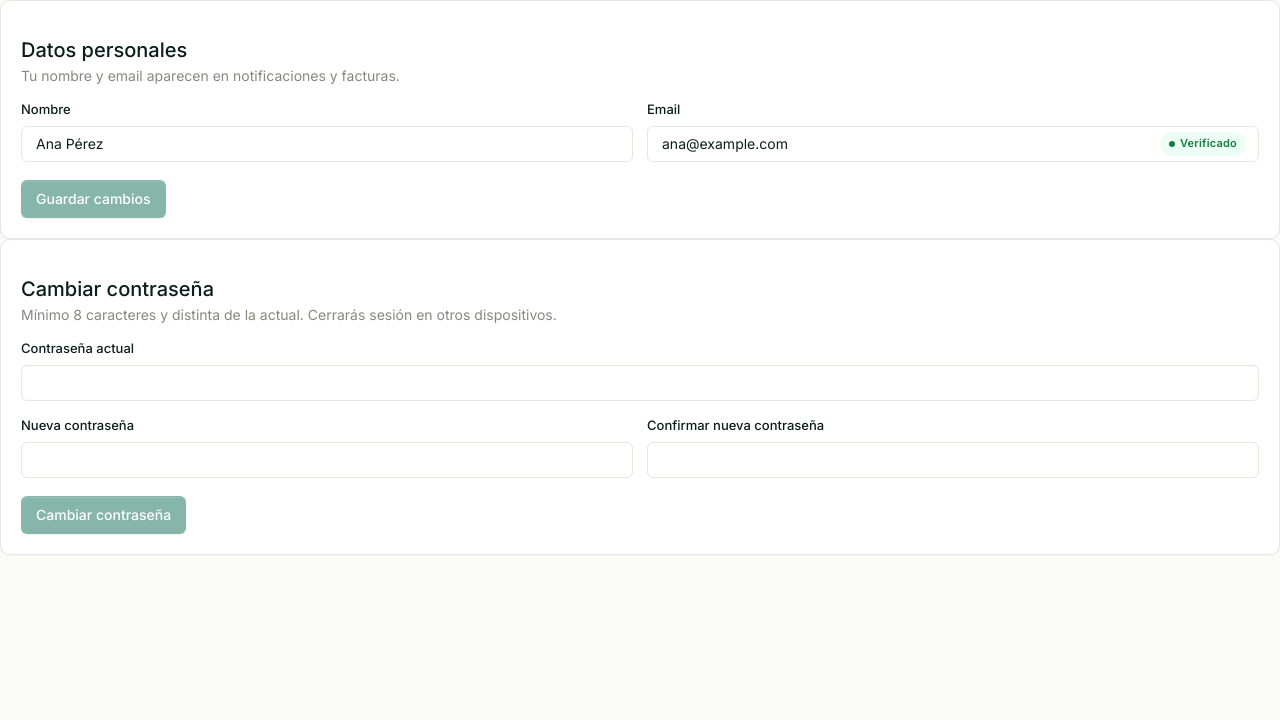
AccountTabPerfil › muestra error de validación 422 en el campo email
Replace the text in the field showing "ana@example.com" next to "Verificado" with "tomado@example.com" at [904, 144], box [660,134,1148,154]
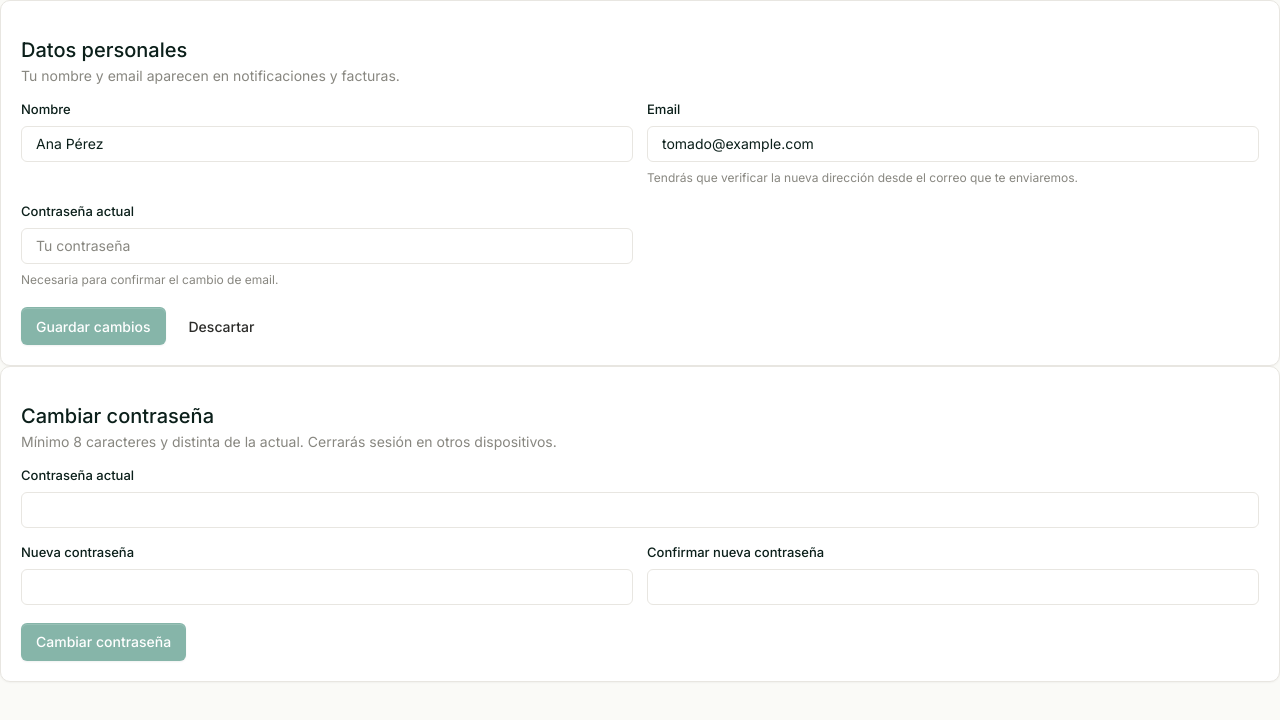
Type "miPassword1" into the password field with placeholder "Tu contraseña" at [327, 246], box [34,236,620,256]
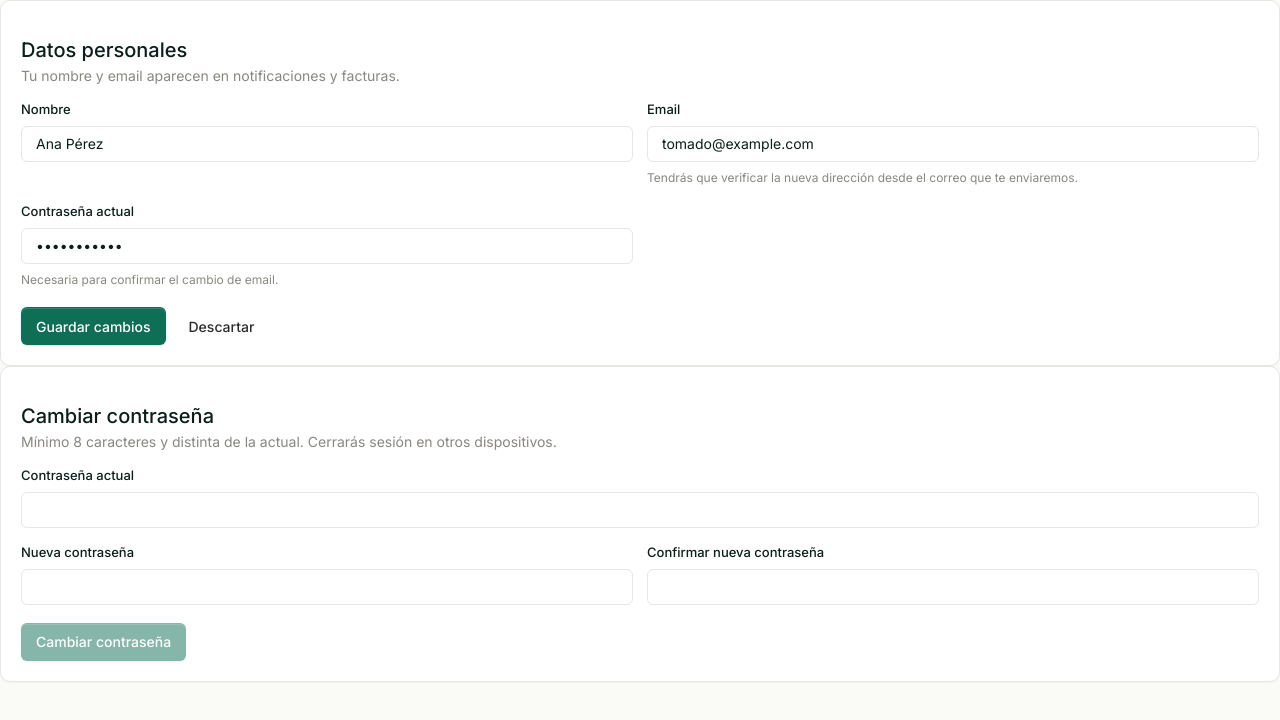
Click the button "Guardar cambios" at [93, 326], box [21,307,166,345]
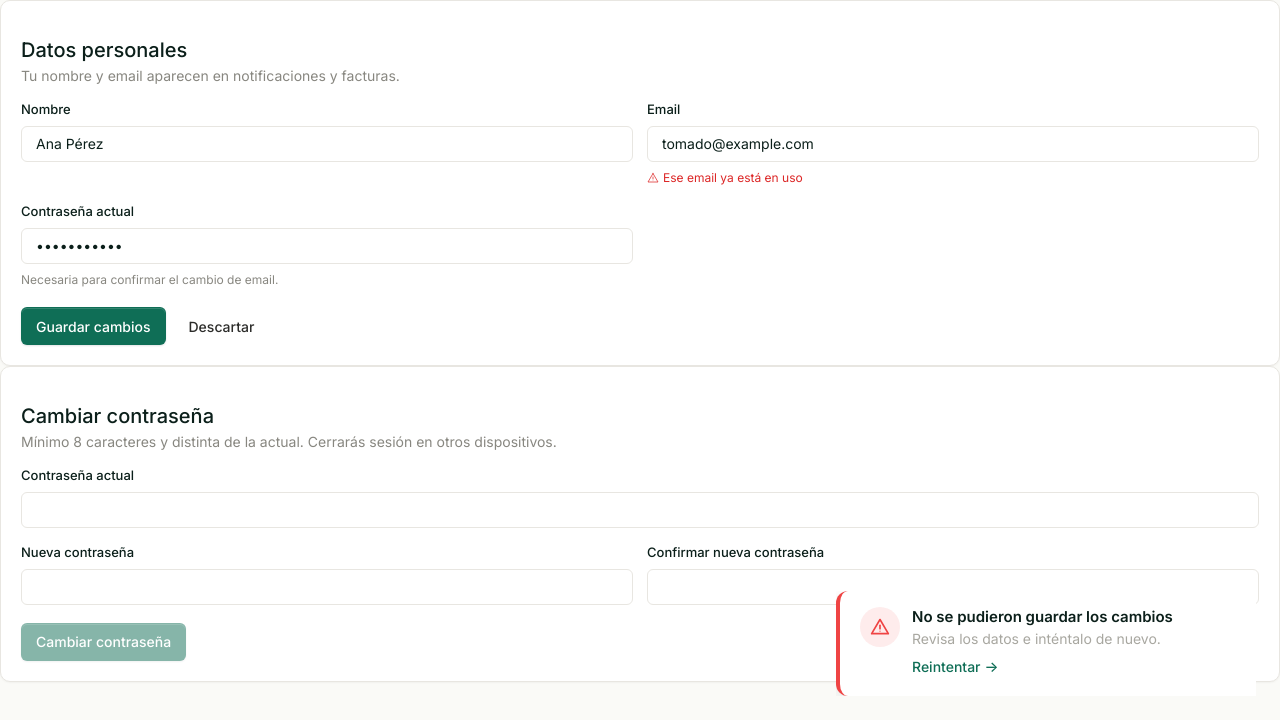
Expected: the text "Ese email ya está en uso" is shown, [647,170,803,185]
